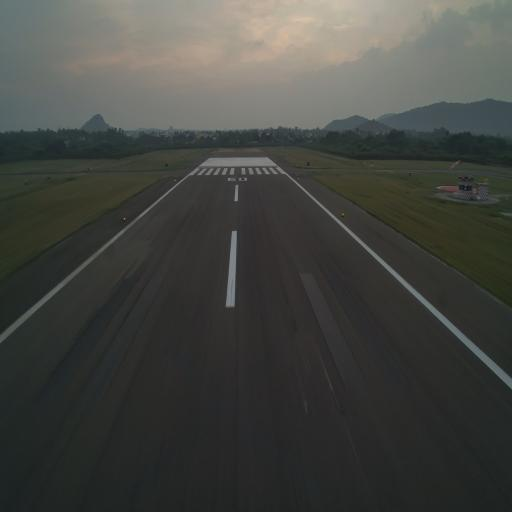on: (122, 215, 129, 222), (340, 210, 345, 218)
